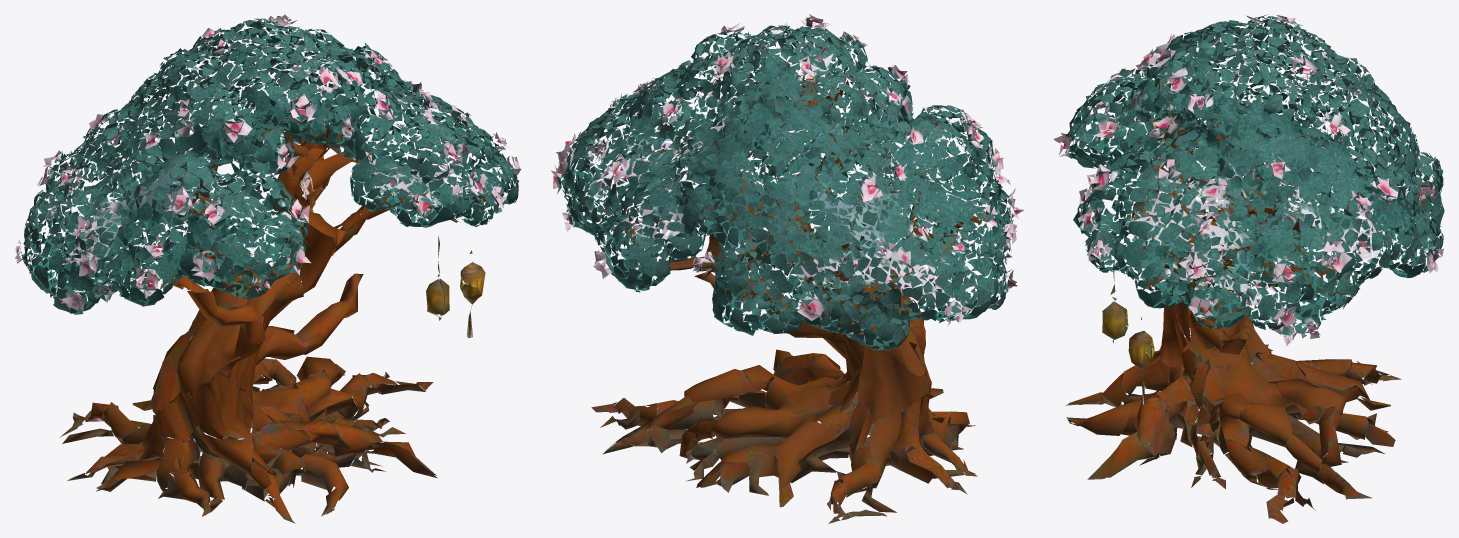
Rendered from elder_tree.glb.
3 renders of one model, left to right at view 1: azimuth 30°, elevation 25°; view 2: azimuth 150°, elevation 25°; view 3: azimuth 270°, elevation 25°, orthographic.
Visible parts, largest first — view 1: elder_tree; view 2: elder_tree; view 3: elder_tree.
Part boxes in pixels (x1=…): elder_tree: x1=14, y1=14, x2=520, y2=523; elder_tree: x1=551, y1=14, x2=1023, y2=523; elder_tree: x1=1053, y1=14, x2=1444, y2=523.
Bounding box in the file's own units: 2.93 × 2.6 × 2.23.
Materials: 1 (1 with a texture image).
